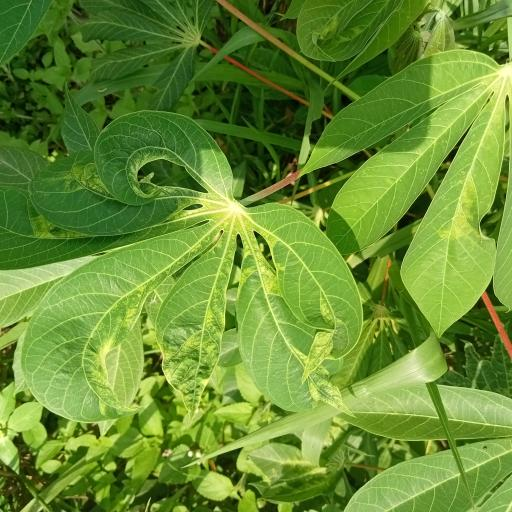Cassava_Healthy: (0, 113, 363, 425), (304, 50, 511, 335)
